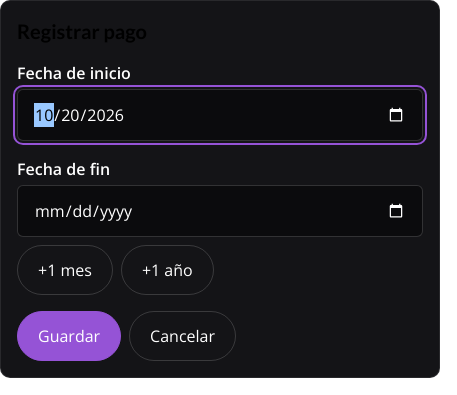
Test: PeriodForm › recording a payment › the shortcuts for the end › works from the start the administrator wrote, not from the one it began with
Type "2026-01-15" into the date field labelled "Fecha de inicio" at (220, 115), box [17,89,423,141]
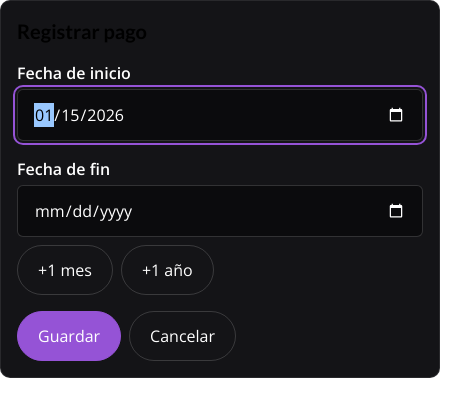
Click the button "+1 mes" at (65, 270), box [17,245,113,295]
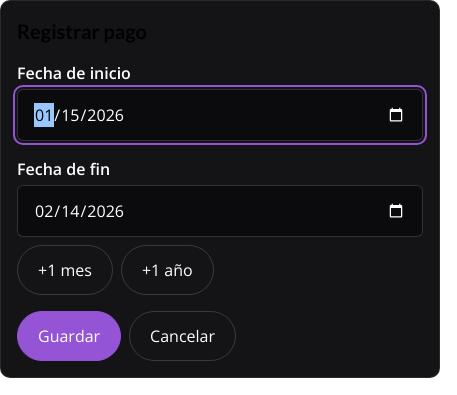
Expected: the date field labelled "Fecha de fin" holds "2026-02-14", [17,185,423,237]
